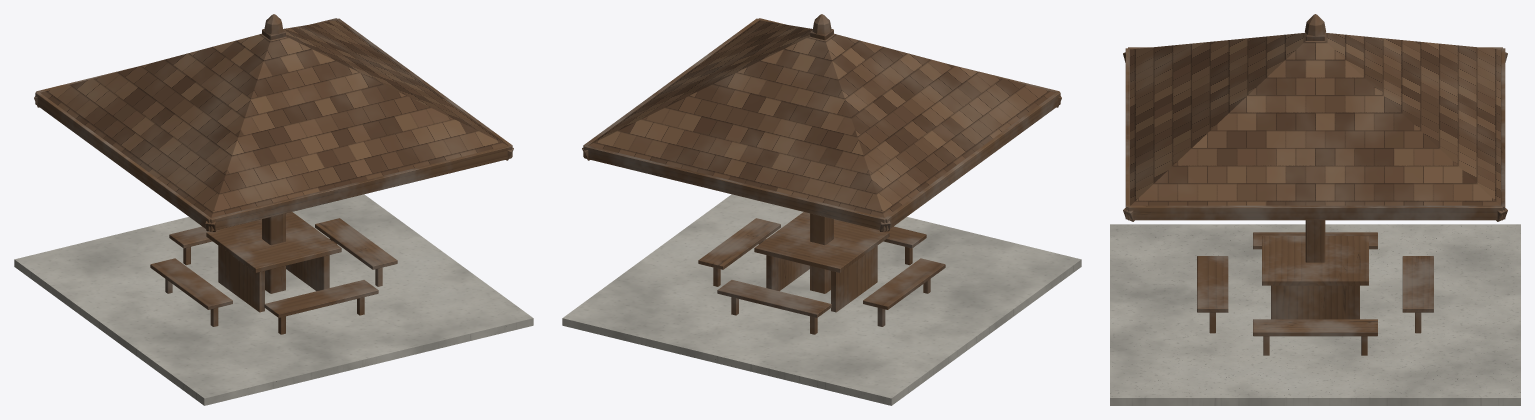
File: UmbrellaGazebo.gltf
3 views of the same model, side by side, from view 1: azimuth 30°, elevation 25°; view 2: azimuth 150°, elevation 25°; view 3: azimuth 270°, elevation 25° (orthographic). The views are drawn at different scales.
Visible parts, largest first — view 1: UmbrellaGazebo; view 2: UmbrellaGazebo; view 3: UmbrellaGazebo.
Boxes of the visible parts, x1,y1,x2,y2 form: UmbrellaGazebo: (14, 14, 533, 405); UmbrellaGazebo: (562, 14, 1081, 405); UmbrellaGazebo: (1110, 14, 1520, 405).
Bounding box in the file's own units: 4.6 × 3.82 × 4.6.
Materials: 3 (3 with a texture image).
